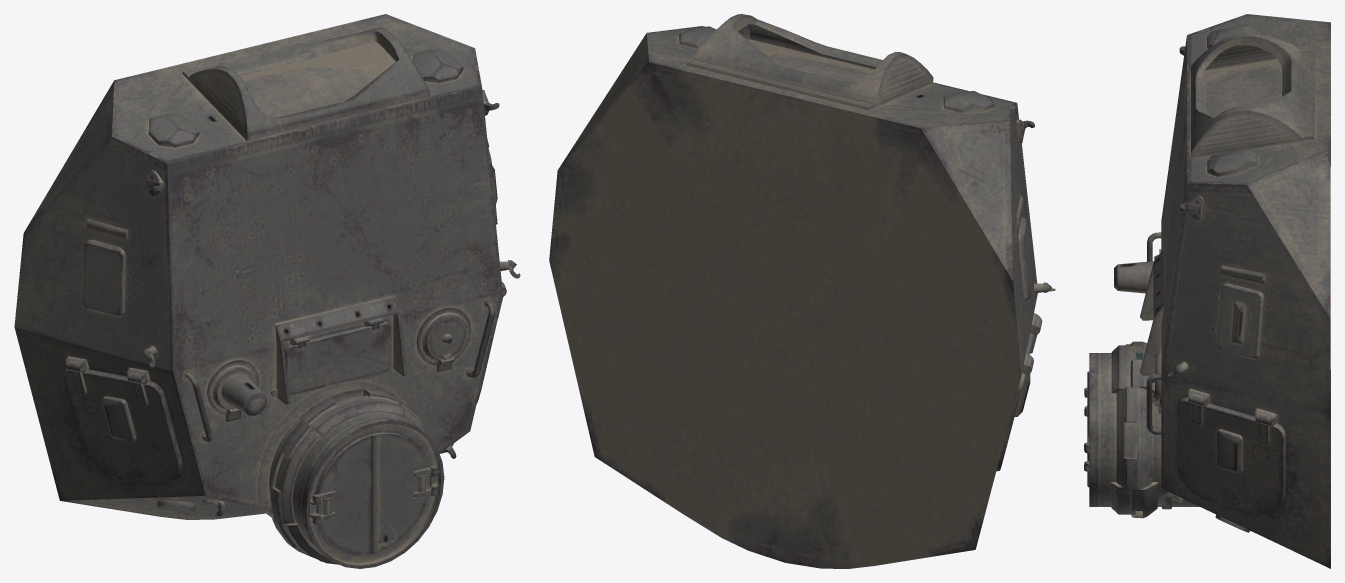
Rendered from Turret_01.glb.
3 views of the same model, side by side, from view 1: azimuth 30°, elevation 25°; view 2: azimuth 150°, elevation 25°; view 3: azimuth 270°, elevation 25° (orthographic). The views are drawn at different scales.
Visible parts, largest first — view 1: set_0_group_0; view 2: set_0_group_0; view 3: set_0_group_0.
Part boxes in pixels (x1,y1,x2,y2): set_0_group_0: [14, 14, 520, 568]; set_0_group_0: [549, 14, 1055, 568]; set_0_group_0: [1084, 14, 1330, 568].
Size of the model in its own units: 2.15 by 2.13 by 1.01.
1 material, 1 textured.
